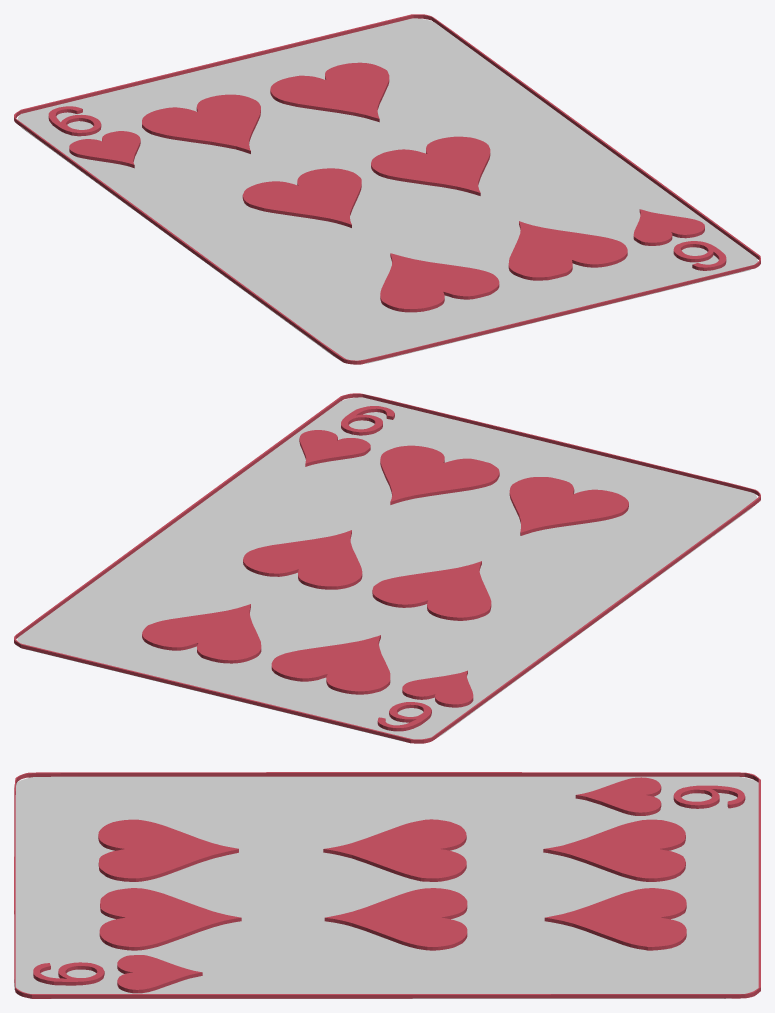
The model's file is 6_hearts.glb.
3 renders of one model, top to bottom at view 1: azimuth 30°, elevation 25°; view 2: azimuth 150°, elevation 25°; view 3: azimuth 270°, elevation 25°, orthographic. The views are drawn at different scales.
Visible parts, largest first — view 1: Mesh_Mesh_head_geo.001_lambert2SG.001; view 2: Mesh_Mesh_head_geo.001_lambert2SG.001; view 3: Mesh_Mesh_head_geo.001_lambert2SG.001.
Part boxes in pixels (x1=…): Mesh_Mesh_head_geo.001_lambert2SG.001: x1=14, y1=14, x2=760, y2=364; Mesh_Mesh_head_geo.001_lambert2SG.001: x1=14, y1=393, x2=760, y2=743; Mesh_Mesh_head_geo.001_lambert2SG.001: x1=14, y1=772, x2=760, y2=998.
Bounding box in the file's own units: 1.2 × 0.01 × 1.7.
